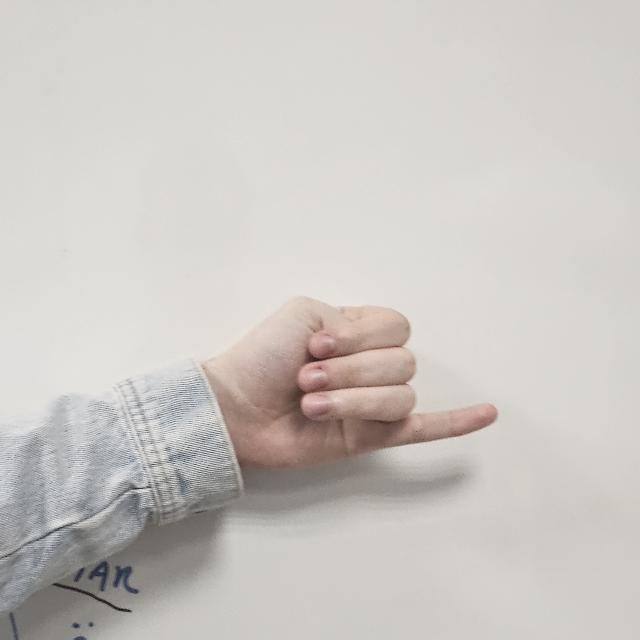Esquerda: (180, 245, 506, 530)
